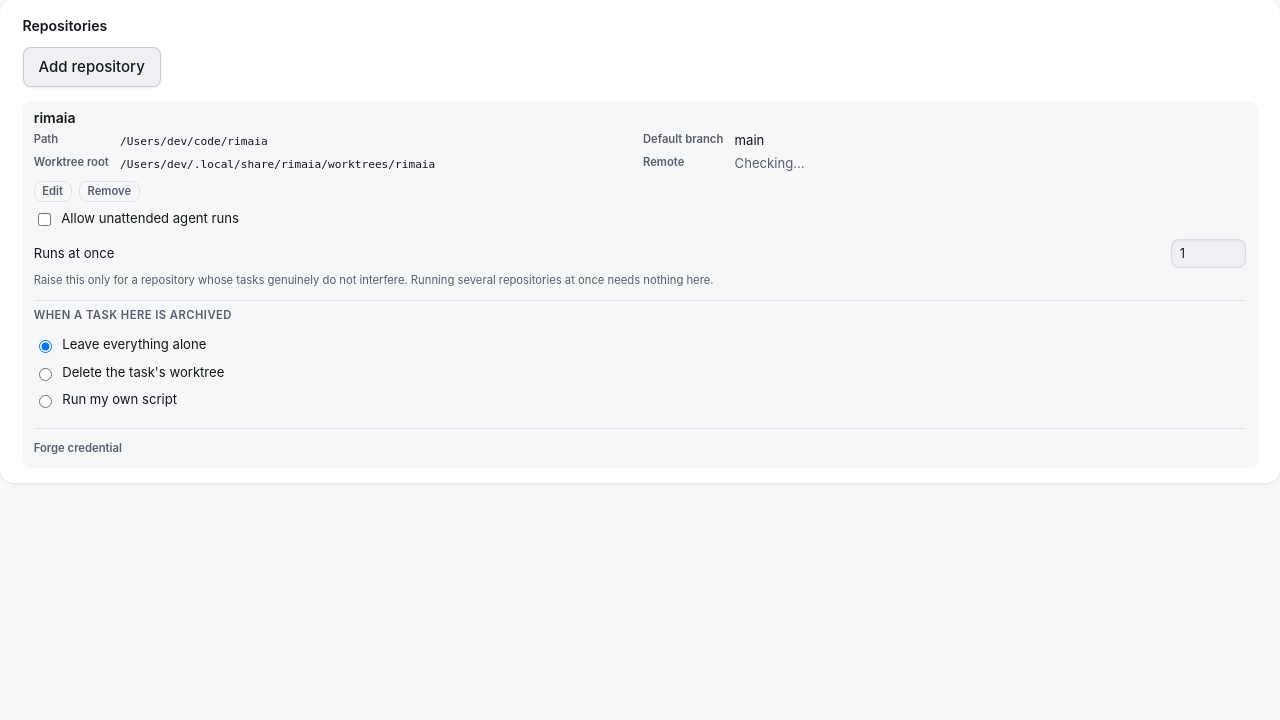
Test: RepositoriesSection › shows the backend's refusal, including the task count, when removing a repository with tasks
Step 1. Click the button "Remove" → x=109, y=192, box top-left (79, 181), bottom-right (140, 202)
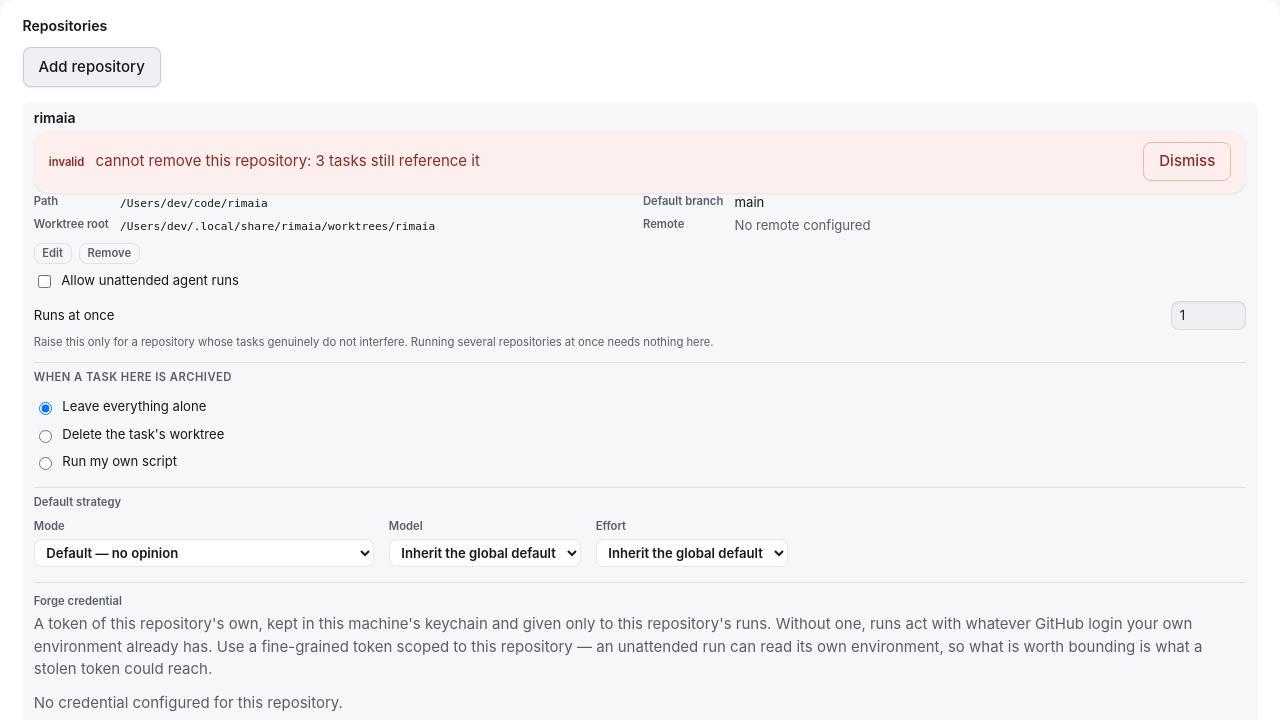
Result: the message shows "cannot remove this repository: 3 tasks still reference it" at top-left (96, 151), bottom-right (480, 170)
